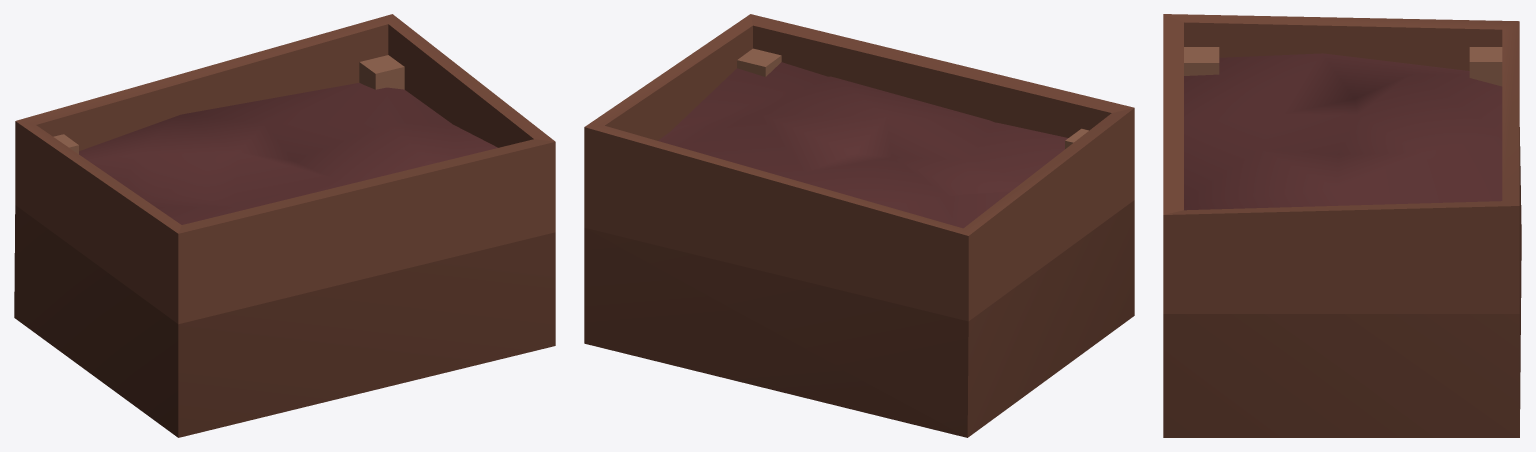
Rendered from CompostBin.glb.
3 renders of one model, left to right at view 1: azimuth 30°, elevation 25°; view 2: azimuth 150°, elevation 25°; view 3: azimuth 270°, elevation 25°, orthographic. The views are drawn at different scales.
Parts seen in each view (by area): view 1: CompostBin; view 2: CompostBin; view 3: CompostBin.
Part boxes in pixels (left/top/right/bottom): CompostBin: left=14, top=14, right=555, bottom=437; CompostBin: left=584, top=14, right=1134, bottom=437; CompostBin: left=1163, top=14, right=1521, bottom=437.
Size of what is drawn, in the model's own units: 0.6161 by 0.3315 by 0.4641.
1 material, 1 textured.
